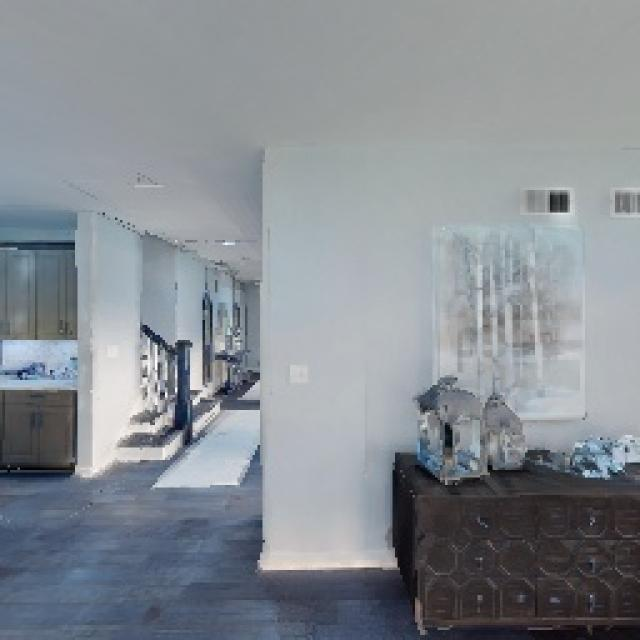stairs: (125, 315, 212, 467)
